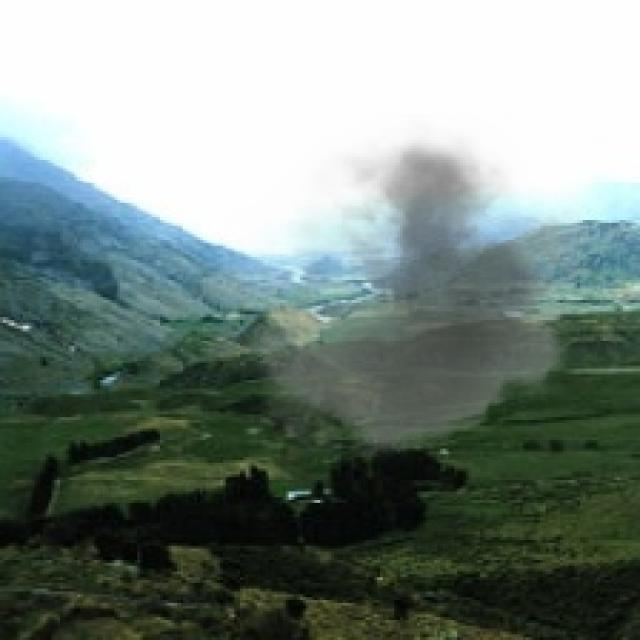Smoke: (205, 114, 606, 472)
